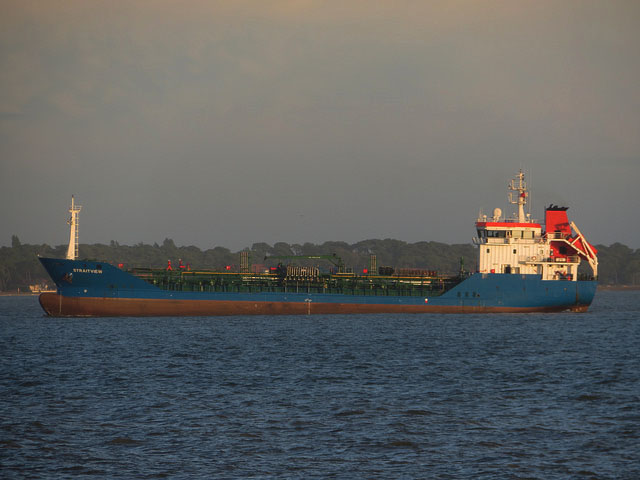tanker: (36, 176, 602, 313)
